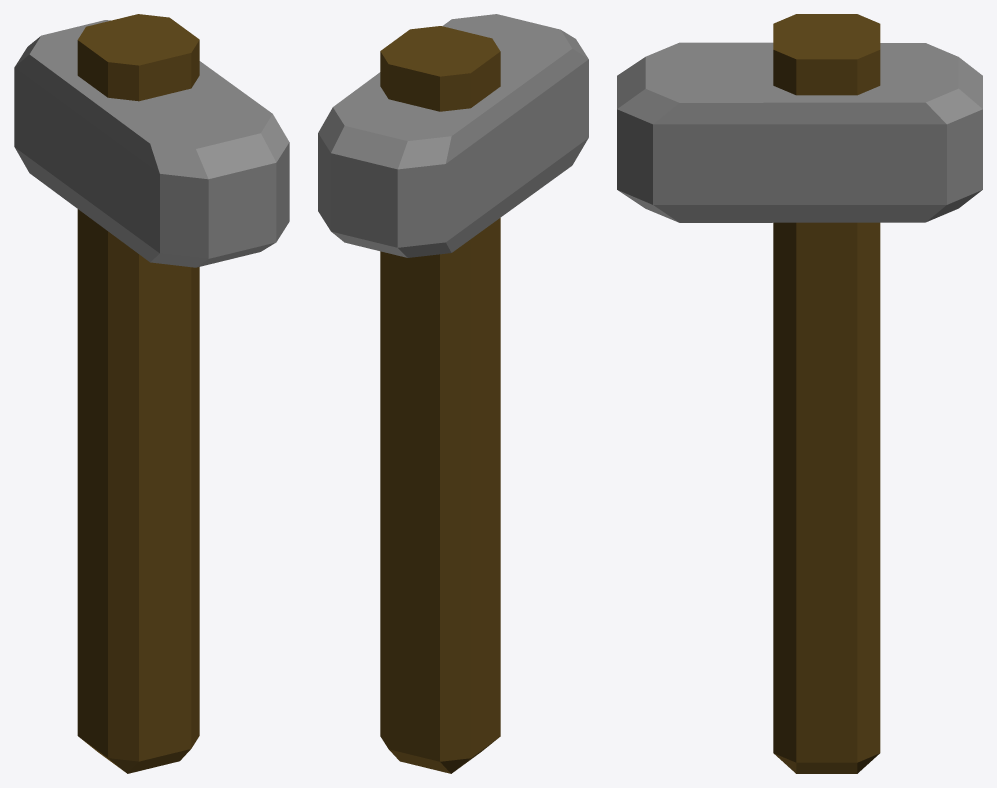
The model's file is hammer.fbx.
3 renders of one model, left to right at view 1: azimuth 30°, elevation 25°; view 2: azimuth 150°, elevation 25°; view 3: azimuth 270°, elevation 25°, orthographic. The views are drawn at different scales.
Visible parts, largest first — view 1: GiantHammer; view 2: GiantHammer; view 3: GiantHammer.
Boxes of the visible parts, x1,y1,x2,y2 form: GiantHammer: [14, 14, 289, 773]; GiantHammer: [318, 14, 588, 773]; GiantHammer: [617, 14, 982, 773].
Bounding box in the file's own units: 282 × 1490 × 682.
